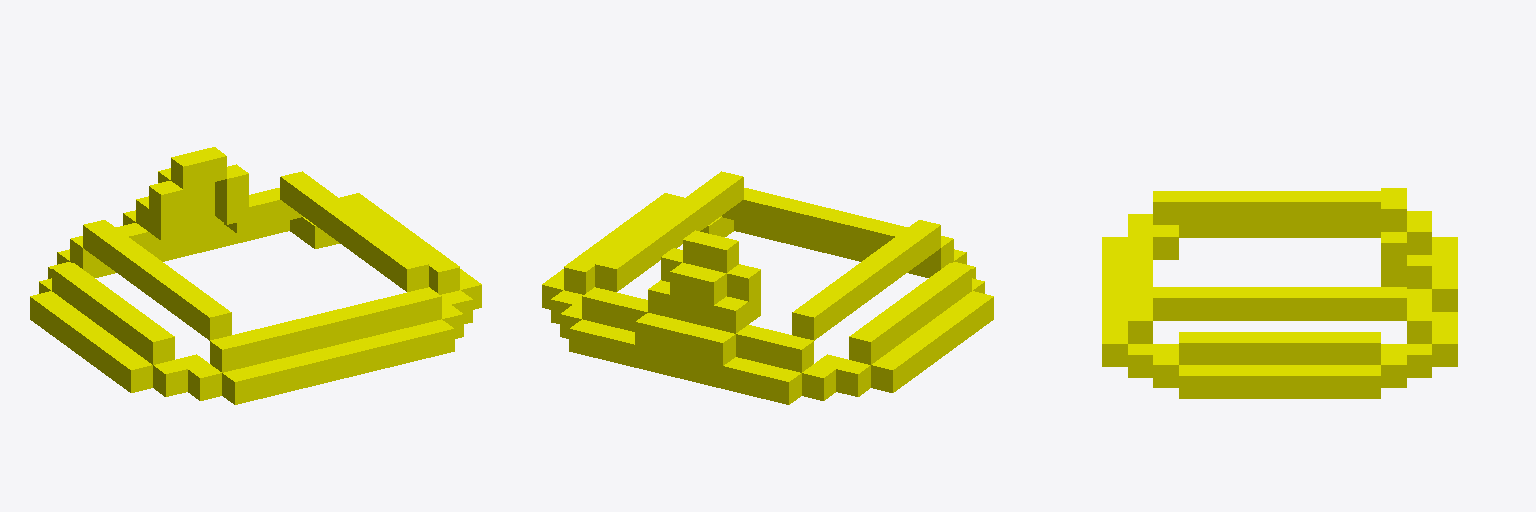
3 renders of one model, left to right at view 1: azimuth 30°, elevation 25°; view 2: azimuth 150°, elevation 25°; view 3: azimuth 270°, elevation 25°, orthographic.
Parts seen in each view (by area): view 1: object 1; view 2: object 1; view 3: object 1.
Boxes of the visible parts, x1=… form: object 1: x1=30, y1=147, x2=481, y2=404; object 1: x1=542, y1=171, x2=993, y2=404; object 1: x1=1102, y1=188, x2=1457, y2=398.
Size of the model in its own units: 1.6 by 0.5 by 1.4.
1 materials, 1 textured.